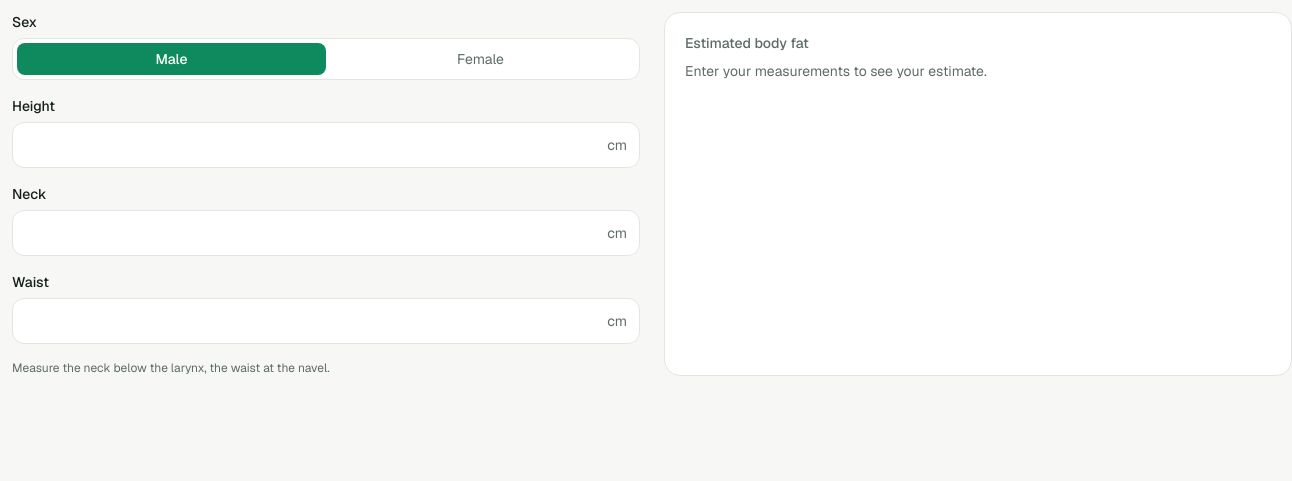
Test: BodyFatCalculator › requires a hip measurement for females
Click the radio button labelled "Female" at (480, 59), box [326,43,635,75]
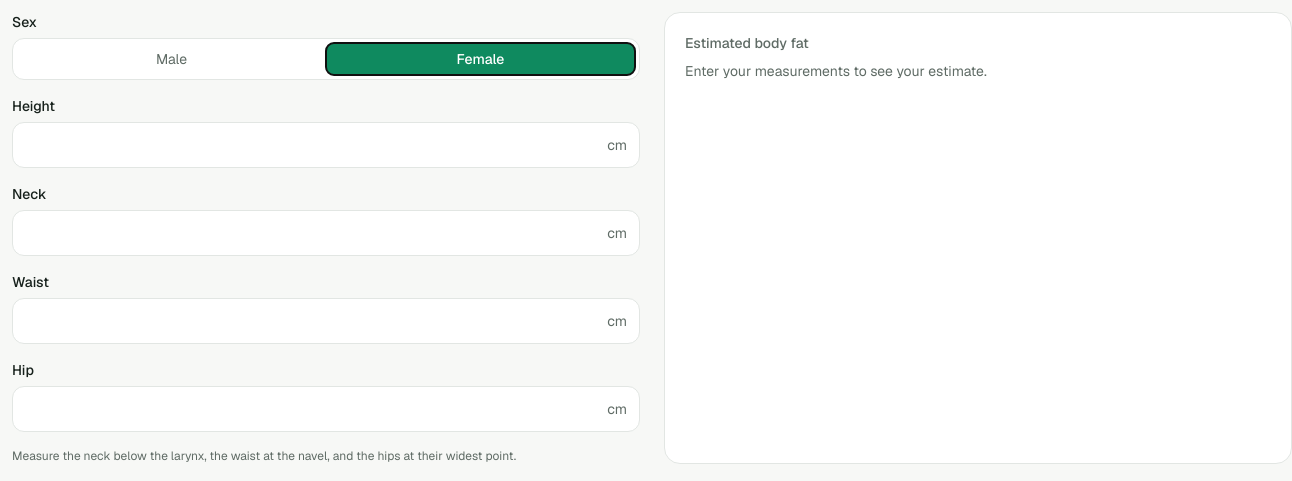
Type "165" into the number field labelled "Height" at (310, 145), box [13,123,607,167]
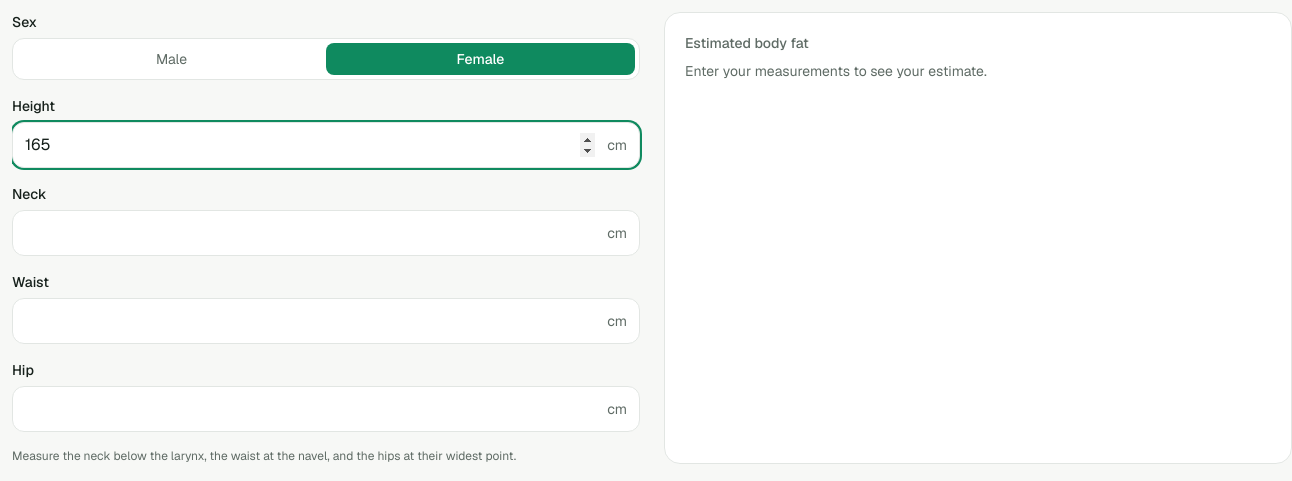
Type "34" into the number field labelled "Neck" at (310, 233), box [13,211,607,255]
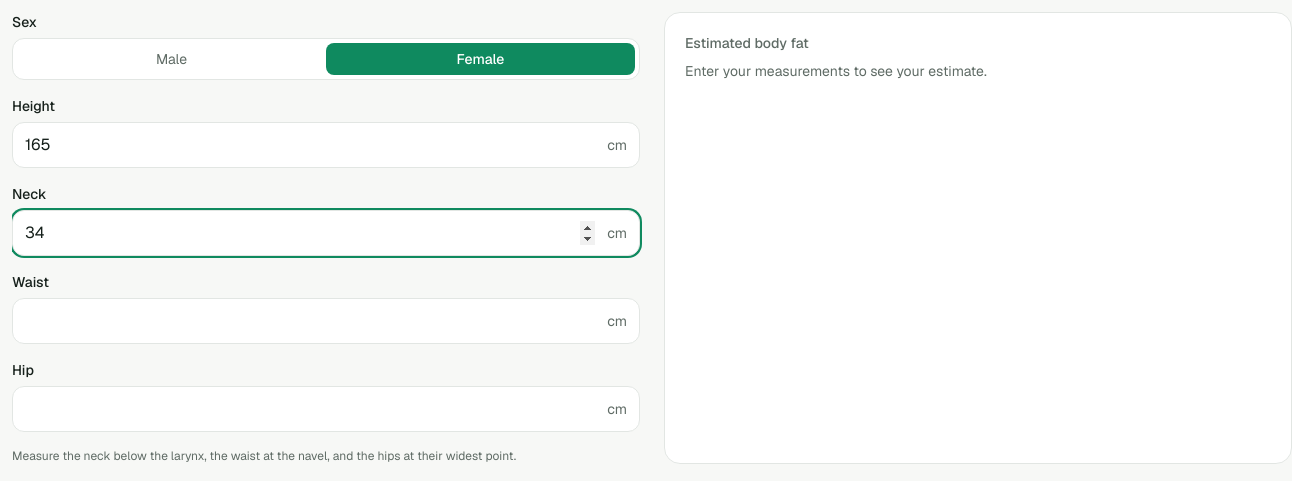
Type "75" into the number field labelled "Waist" at (310, 321), box [13,299,607,343]
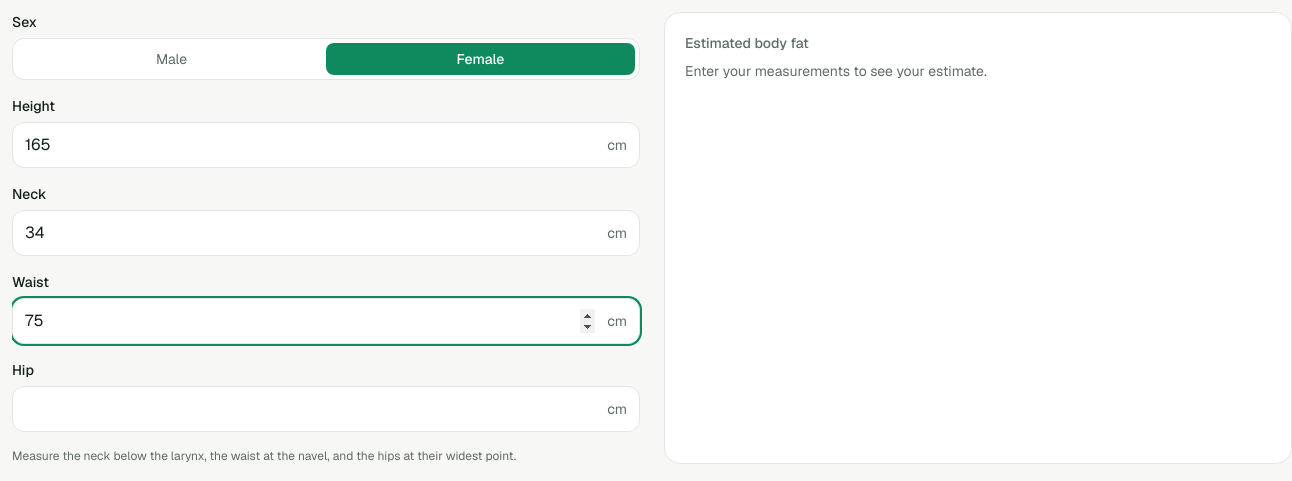
Type "100" into the number field labelled "Hip" at (310, 409), box [13,387,607,431]
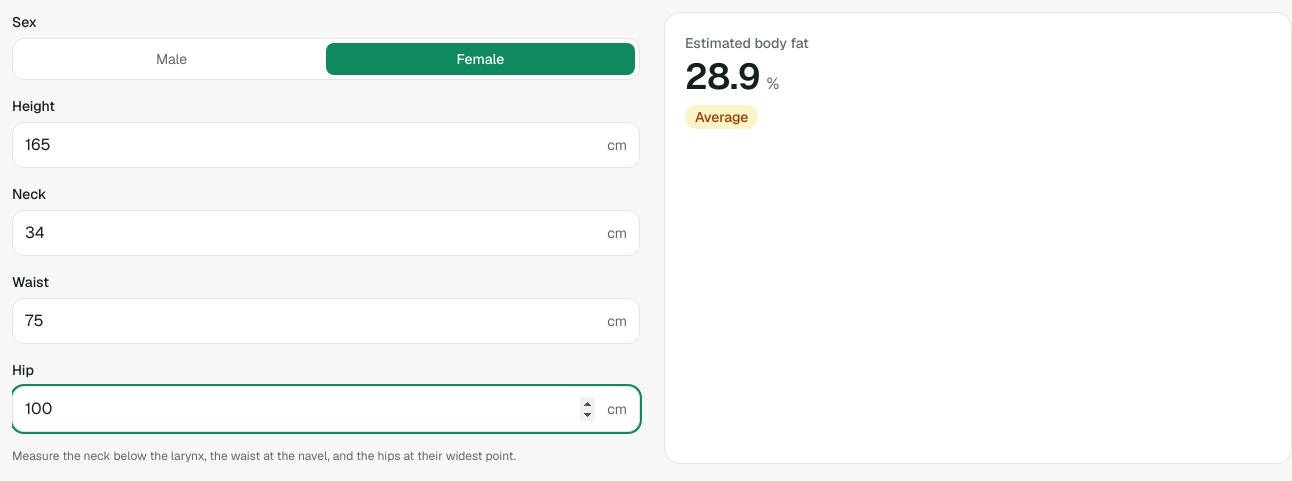
Expected: the text with test id "result-value" reads "28.9", [685,53,760,100]
